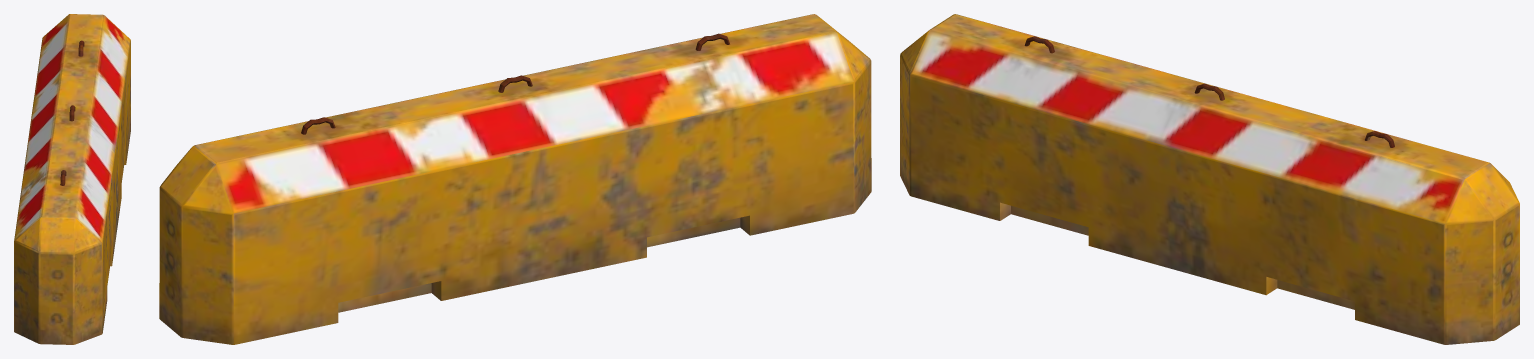
The model's file is road-barrier.lod0.glb.
3 renders of one model, left to right at view 1: azimuth 30°, elevation 25°; view 2: azimuth 150°, elevation 25°; view 3: azimuth 270°, elevation 25°, orthographic. The views are drawn at different scales.
Parts seen in each view (by area): view 1: Object_17; view 2: Object_17; view 3: Object_17.
Boxes of the visible parts, x1=… form: Object_17: x1=14, y1=14, x2=130, y2=344; Object_17: x1=159, y1=14, x2=871, y2=344; Object_17: x1=900, y1=14, x2=1519, y2=344.
Size of the model in its own units: 1.66 by 0.6696 by 2.29.
Materials: 1 (1 with a texture image).
